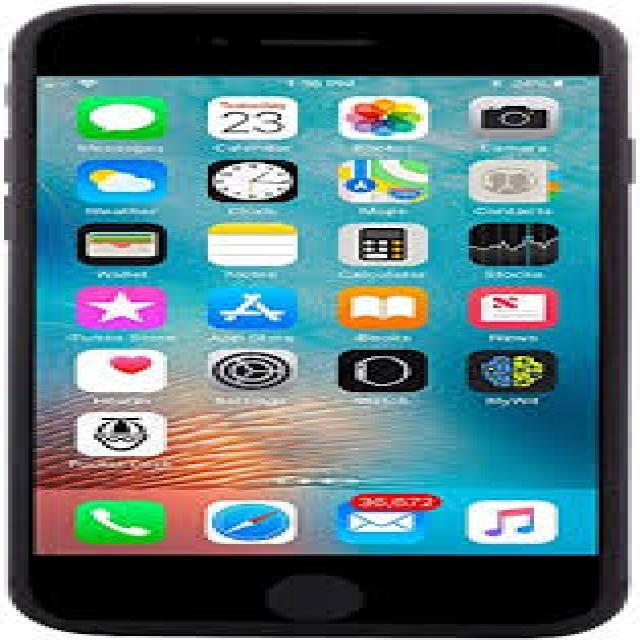phone: (13, 1, 636, 640)
